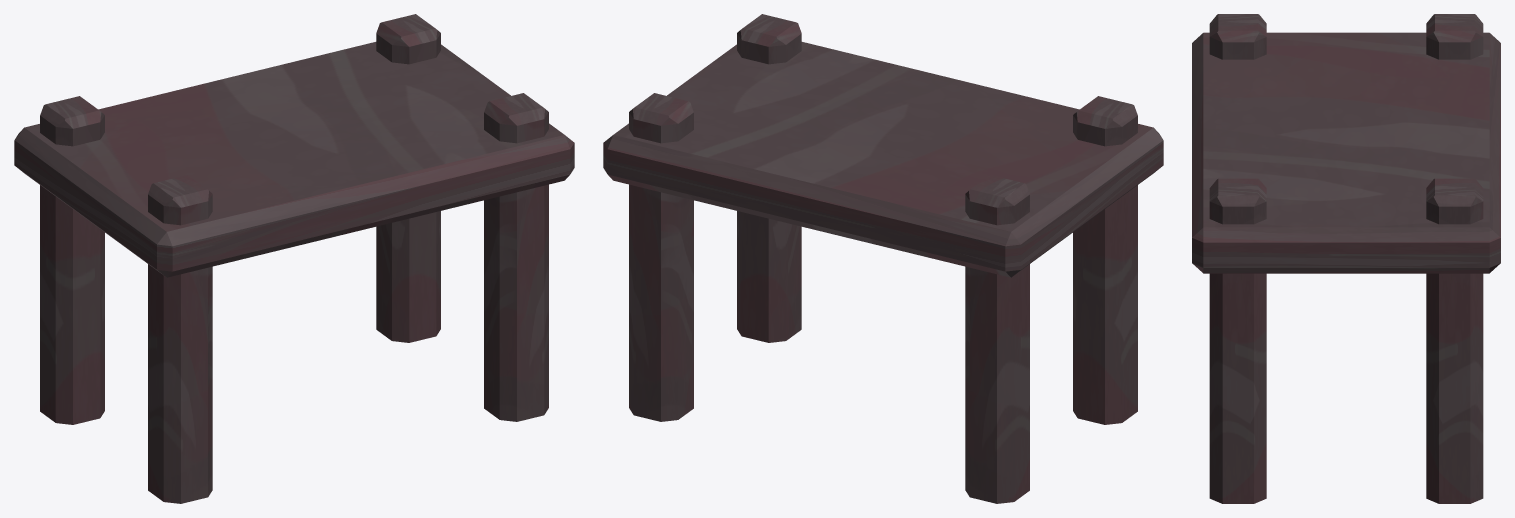
File: Stool.fbx
The picture shows the model from 3 angles, left to right: view 1: azimuth 30°, elevation 25°; view 2: azimuth 150°, elevation 25°; view 3: azimuth 270°, elevation 25°; orthographic projection.
Parts seen in each view (by area): view 1: stool; view 2: stool; view 3: stool.
Boxes of the visible parts, x1=… form: stool: x1=14, y1=14, x2=574, y2=503; stool: x1=603, y1=14, x2=1163, y2=503; stool: x1=1192, y1=14, x2=1500, y2=503.
Bounding box in the file's own units: 116 × 80.94 × 74.28.
